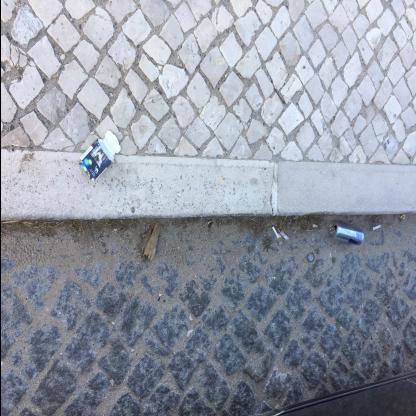karton: (79, 131, 121, 183)
metal: (329, 222, 365, 248)
